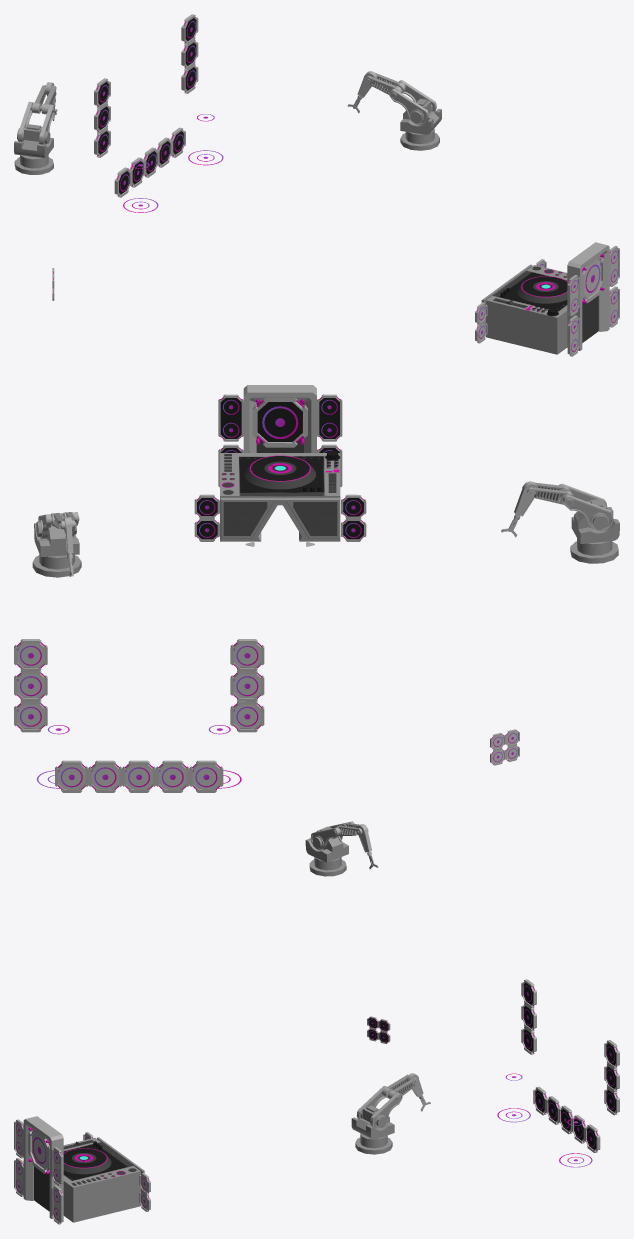
The model's file is XNF_02_UV3.fbx.
3 renders of one model, top to bottom at view 1: azimuth 30°, elevation 25°; view 2: azimuth 150°, elevation 25°; view 3: azimuth 270°, elevation 25°, orthographic. The views are drawn at different scales.
Parts seen in each view (by area): view 1: XNR_02_UV3; view 2: XNR_02_UV3; view 3: XNR_02_UV3.
Part boxes in pixels (x1,y1,x2,y2): XNR_02_UV3: [14, 14, 619, 356]; XNR_02_UV3: [14, 385, 619, 792]; XNR_02_UV3: [14, 821, 619, 1224].
Bounding box in the file's own units: 90.84 × 41.6 × 108.
14 materials, 14 textured.
